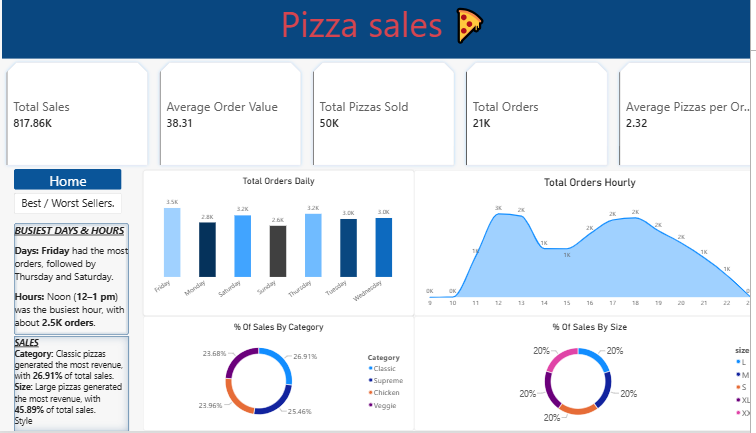

Layout of this report page (visuals, bound fields, positions):
{"tool":"powerbi","page":{"name":"Home","canvas":[1920,1080],"ordinal":0},"visuals":[{"type":"cardVisual","fields":{"Data":["Pizza Measures.Total Sales","Pizza Measures.Average Order Value","Pizza Measures.Total Pizzas Sold","Pizza Measures.Total Orders","Pizza Measures.Average Pizzas per Order"]},"box":[10.1,148.7,1909.9,279.7],"z":0},{"type":"textbox","box":[1547.1,892,372.9,189],"z":1000},{"type":"textbox","box":[10.1,0,1909.9,148.7],"z":2000},{"type":"columnChart","title":"Total Orders Daily","fields":{"Category":["public orders.Day of Week"],"Y":["Pizza Measures.Total Orders"]},"box":[362.8,428.3,677.8,365.4],"z":3000},{"type":"areaChart","title":"Total Orders Hourly","fields":{"Category":["public orders.Order Hour"],"Y":["Pizza Measures.Total Orders"]},"box":[1040.6,428.3,879.4,365.4],"z":4000},{"type":"donutChart","title":"% Of Sales By Category","fields":{"Category":["public pizza_types.category"],"Y":["Pizza Measures.% of Sales by category"]},"box":[362.8,793.7,677.8,287.2],"z":5000},{"type":"donutChart","title":"% Of Sales By Size","fields":{"Category":["public pizzas.size"],"Y":["Pizza Measures.% of Sales by category"]},"box":[1040.6,793.7,879.4,287.2],"z":6000},{"type":"pageNavigator","box":[40.3,425.8,269.6,113.4],"z":7000},{"type":"textbox","box":[40.3,559.4,287.2,279.7],"z":8000},{"type":"textbox","box":[40.3,841.6,287.2,239.4],"z":9000}]}

Visuals, with their boxes in screenshot pixels (x1, y1, x2, y2), scaled from the page's 1920x1080 canvas onto the 756x433 screenshot:
cardVisual - Pizza Measures.Total Sales x Pizza Measures.Average Order Value: <bbox>4, 60, 755, 172</bbox>
textbox: <bbox>609, 358, 755, 432</bbox>
textbox: <bbox>4, 0, 755, 60</bbox>
"Total Orders Daily" columnChart: <bbox>143, 172, 410, 318</bbox>
"Total Orders Hourly" areaChart: <bbox>410, 172, 755, 318</bbox>
"% Of Sales By Category" donutChart: <bbox>143, 318, 410, 432</bbox>
"% Of Sales By Size" donutChart: <bbox>410, 318, 755, 432</bbox>
pageNavigator: <bbox>16, 171, 122, 216</bbox>
textbox: <bbox>16, 224, 129, 336</bbox>
textbox: <bbox>16, 337, 129, 432</bbox>
